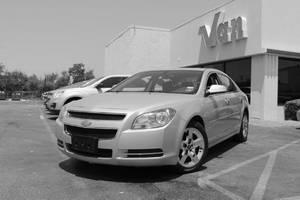car: (53, 68, 254, 178)
